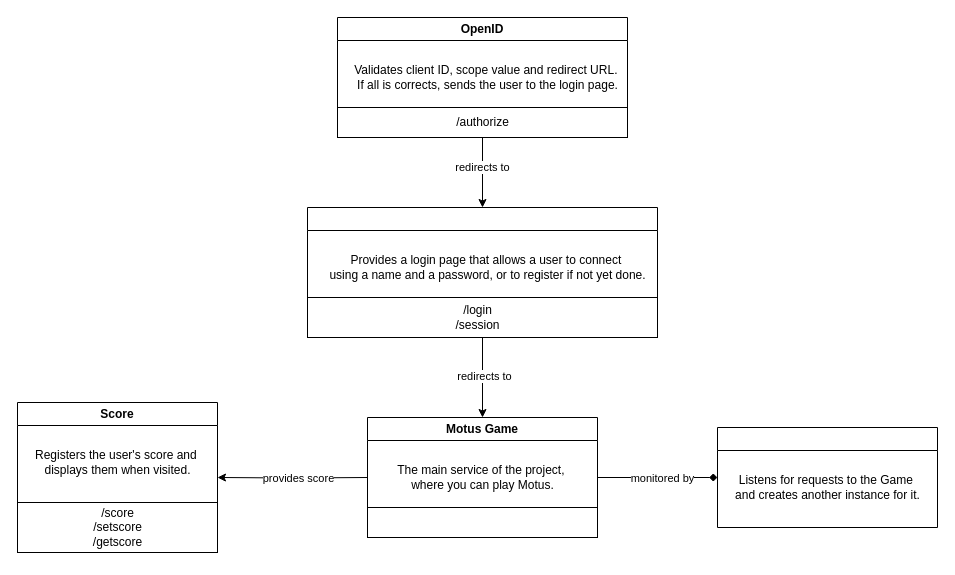
This 955x575 diagram has some shape labels left out. The shapes that lost their labels are listed below. From the top down, each one's box as (x1, y1, x2, y2) in pixels, then its label:
(306, 206, 658, 338): Authentification
(716, 426, 938, 528): Haproxy
(366, 506, 598, 538): /word
